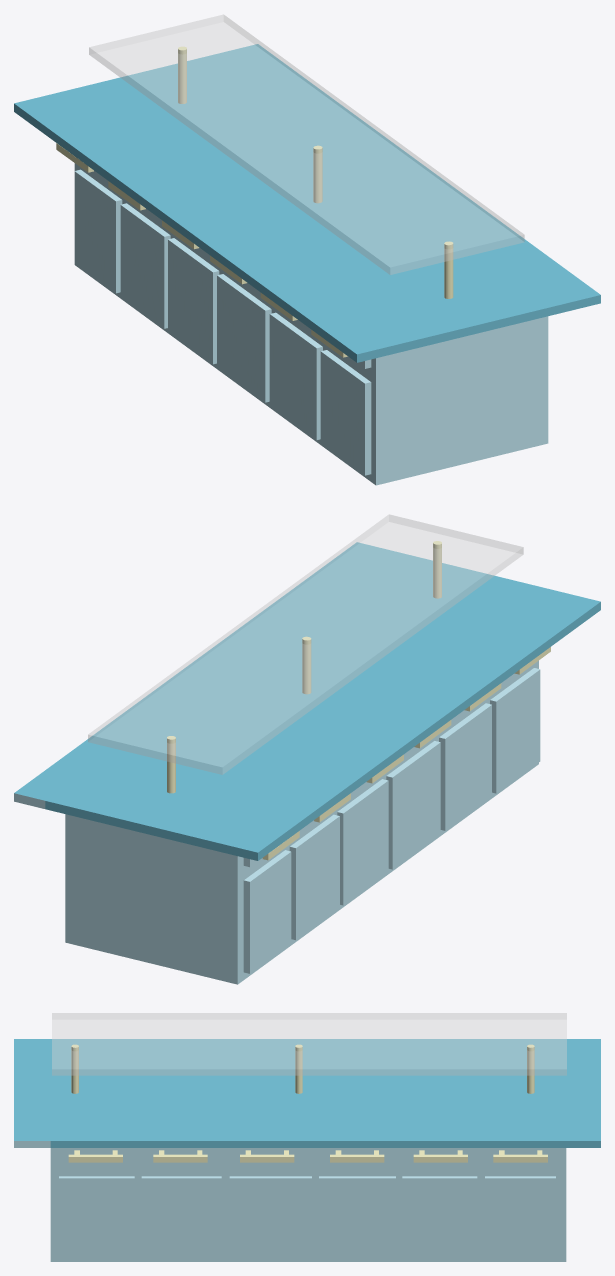
File: MejaBelakang.fbx
The picture shows the model from 3 angles, top to bottom: view 1: azimuth 30°, elevation 25°; view 2: azimuth 150°, elevation 25°; view 3: azimuth 270°, elevation 25°; orthographic projection. The views are drawn at different scales.
Visible parts, largest first — view 1: Cube; view 2: Cube; view 3: Cube.
Part boxes in pixels (box(x1,y1,x2,y2)): Cube: box(14, 14, 600, 485); Cube: box(14, 514, 600, 984); Cube: box(14, 1013, 600, 1261).
Bounding box in the file's own units: 152 × 127 × 370.
